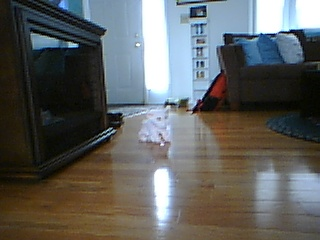piggy: (137, 104, 174, 146)
